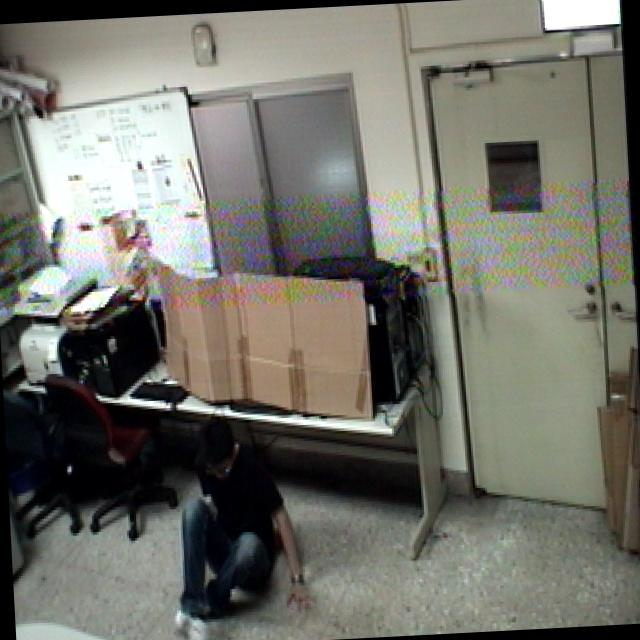sit: (160, 403, 316, 640)
